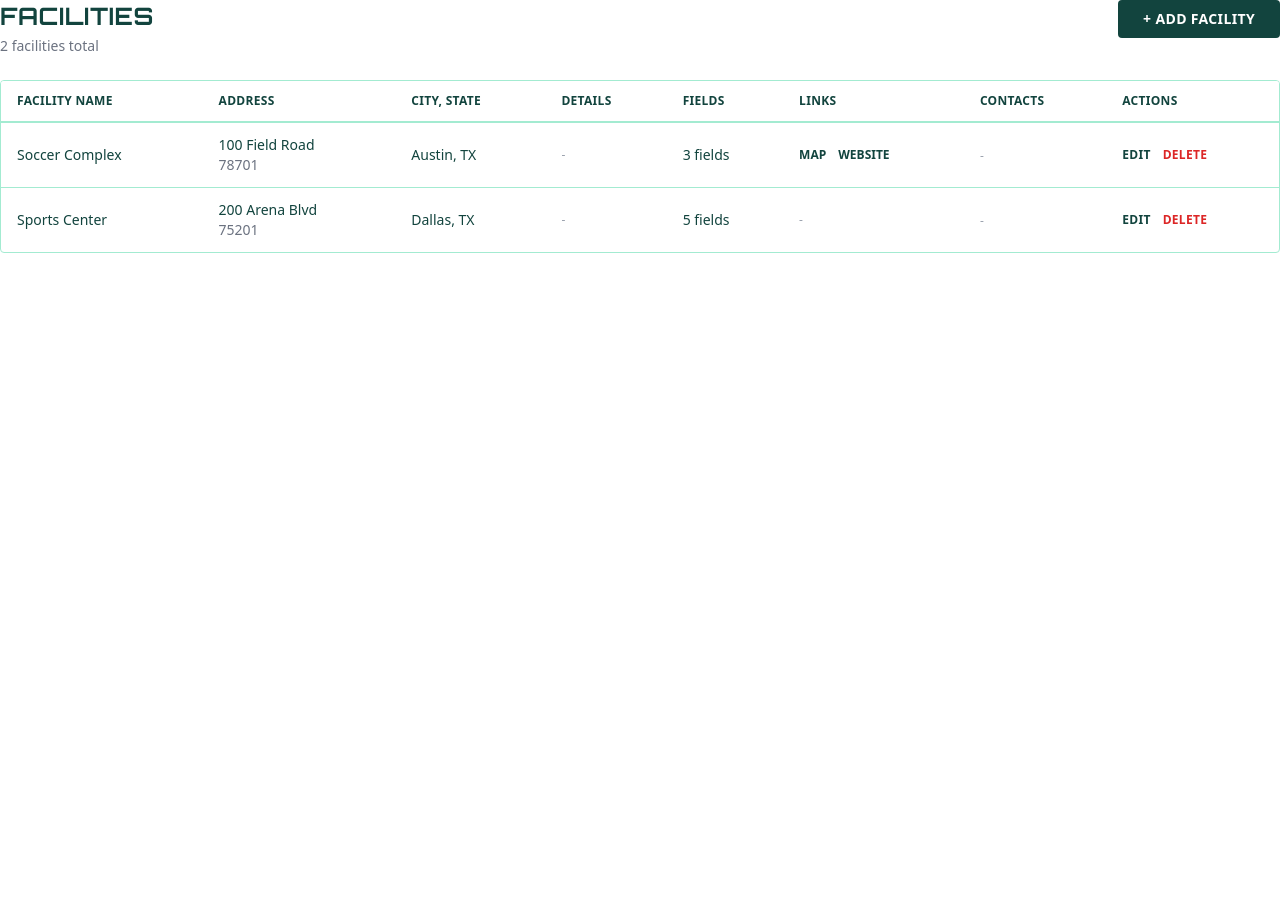
Test: VenueManagement › Field Management › displays field status with correct styling
The image size is (1280, 900).
Step 1. Click the button "Edit" in the row of "Soccer Complex" → (1136, 155), box [1122,147,1151,163]
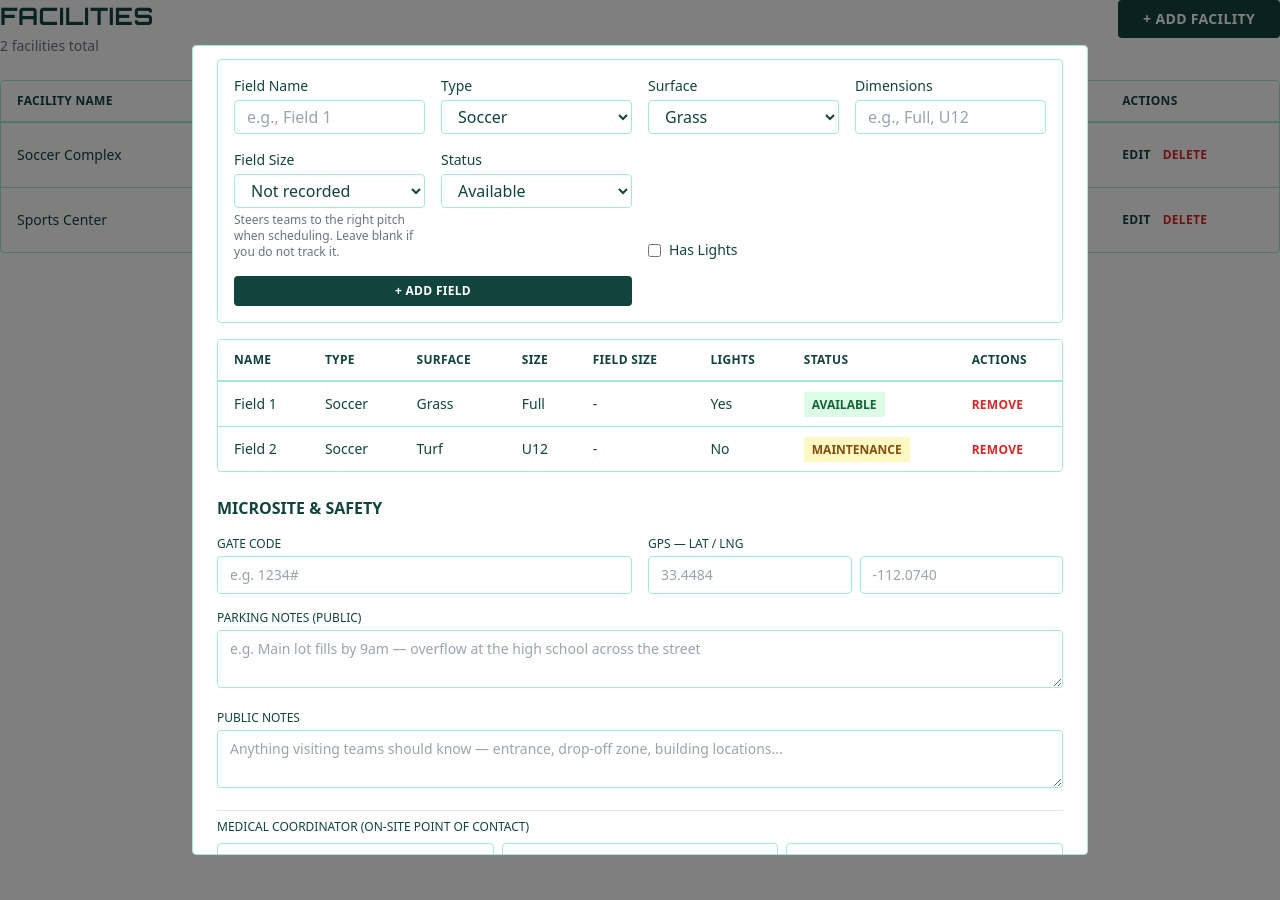
Expected: the text "available" is shown, [804,392,884,417]
Expected: the text "maintenance" is shown, [804,437,910,462]
